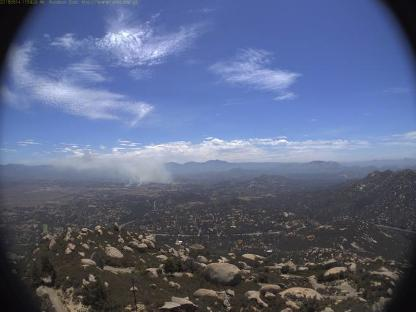smoke: (63, 146, 176, 186)
